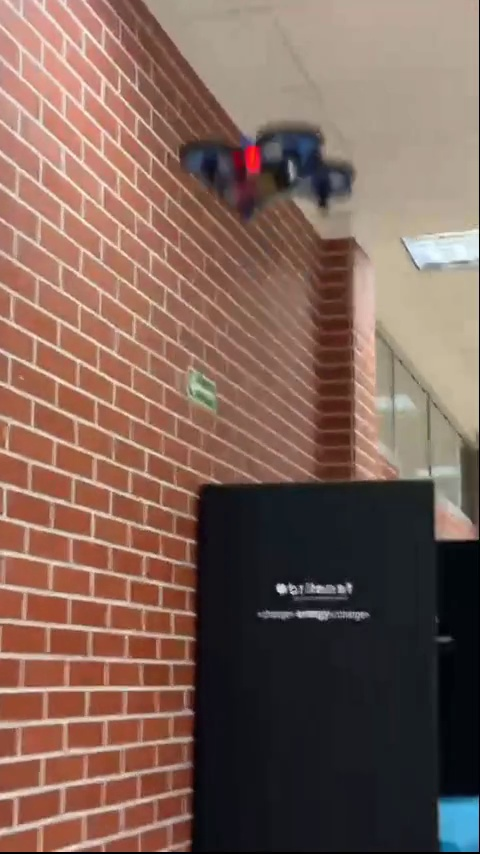drone: (176, 127, 351, 214)
